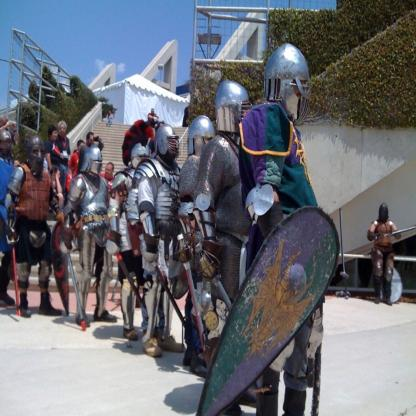Helmet: (266, 43, 314, 110), (214, 80, 251, 136), (119, 119, 154, 169), (187, 115, 216, 157), (154, 123, 178, 166), (26, 134, 46, 177), (80, 143, 105, 177), (0, 124, 11, 157), (378, 203, 388, 222)
